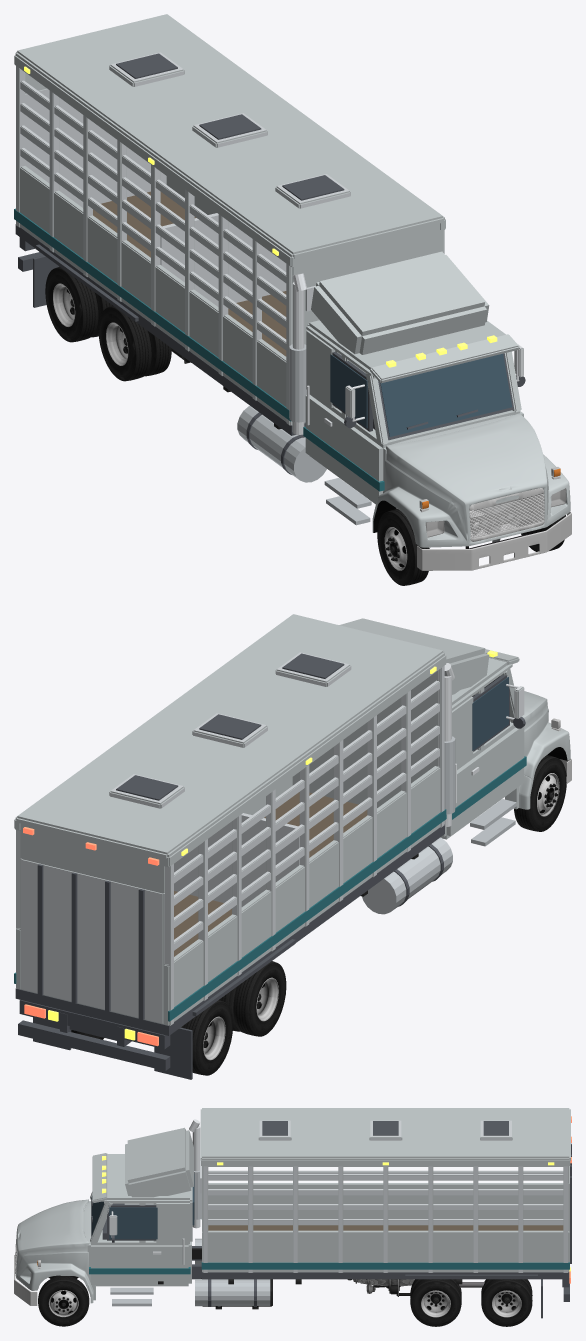
File: stock_truck.glb
3 views of the same model, one above another, from view 1: azimuth 30°, elevation 25°; view 2: azimuth 150°, elevation 25°; view 3: azimuth 270°, elevation 25° (orthographic). The views are drawn at different scales.
Parts seen in each view (by area): view 1: Stock_Rack, FL70_CabFrame, FL70_HoodChassis, Wheel_RR1, Wheel_RR2, Wheel_FR; view 2: Stock_Rack, FL70_CabFrame, FL70_HoodChassis, Wheel_RR1, Wheel_RR2, Wheel_FR; view 3: Stock_Rack, FL70_CabFrame, FL70_HoodChassis, Wheel_RL2, Wheel_RL1, Wheel_FL.
Part boxes in pixels (x1,y1,x2,y2): Stock_Rack: [14, 14, 445, 435]; FL70_CabFrame: [18, 237, 525, 525]; FL70_HoodChassis: [171, 348, 571, 570]; Wheel_RR1: [98, 305, 171, 381]; Wheel_RR2: [45, 266, 112, 342]; Wheel_FR: [377, 509, 429, 585]; Stock_Rack: [14, 614, 446, 1035]; FL70_CabFrame: [18, 618, 526, 1079]; FL70_HoodChassis: [361, 689, 571, 896]; Wheel_RR1: [219, 961, 286, 1036]; Wheel_RR2: [181, 1000, 233, 1075]; Wheel_FR: [514, 755, 566, 831]; Stock_Rack: [200, 1108, 571, 1279]; FL70_CabFrame: [87, 1119, 570, 1318]; FL70_HoodChassis: [14, 1199, 484, 1309]; Wheel_RL2: [481, 1279, 532, 1326]; Wheel_RL1: [410, 1279, 461, 1326]; Wheel_FL: [38, 1276, 89, 1326].
Size of the model in its own units: 3.02 by 4.21 by 12.21.
25 materials, 12 textured.
